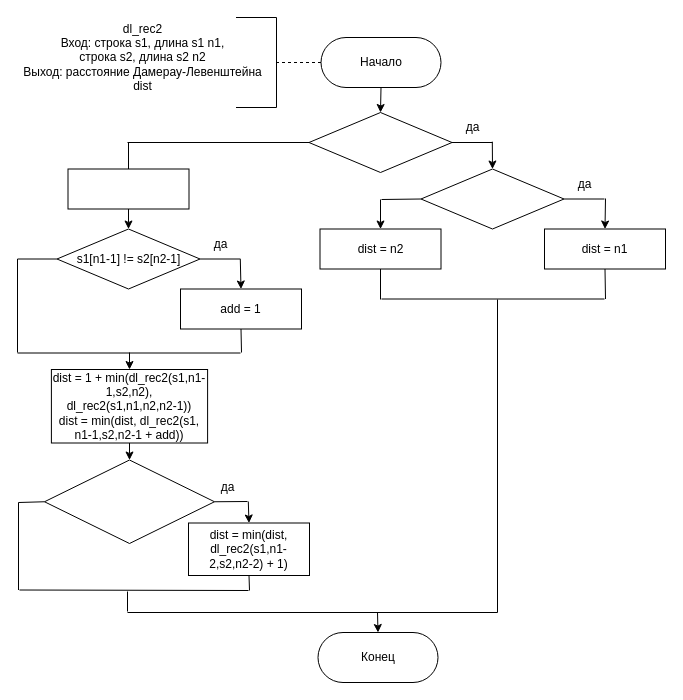
Image size: 683x700. Some labels were removed from this diagram. Here are the shapes that lost their labels. From the top down, the box of each, then its label:
(308, 112, 452, 172): n1 * n2 == 0
(67, 168, 189, 209): add = 0
(420, 168, 564, 229): n1 != 0
(44, 459, 214, 544): i > 1 && j > 1 && s1[n1-1]==s2[n2-2] && s1[n1-2]==s2[n2-1]
